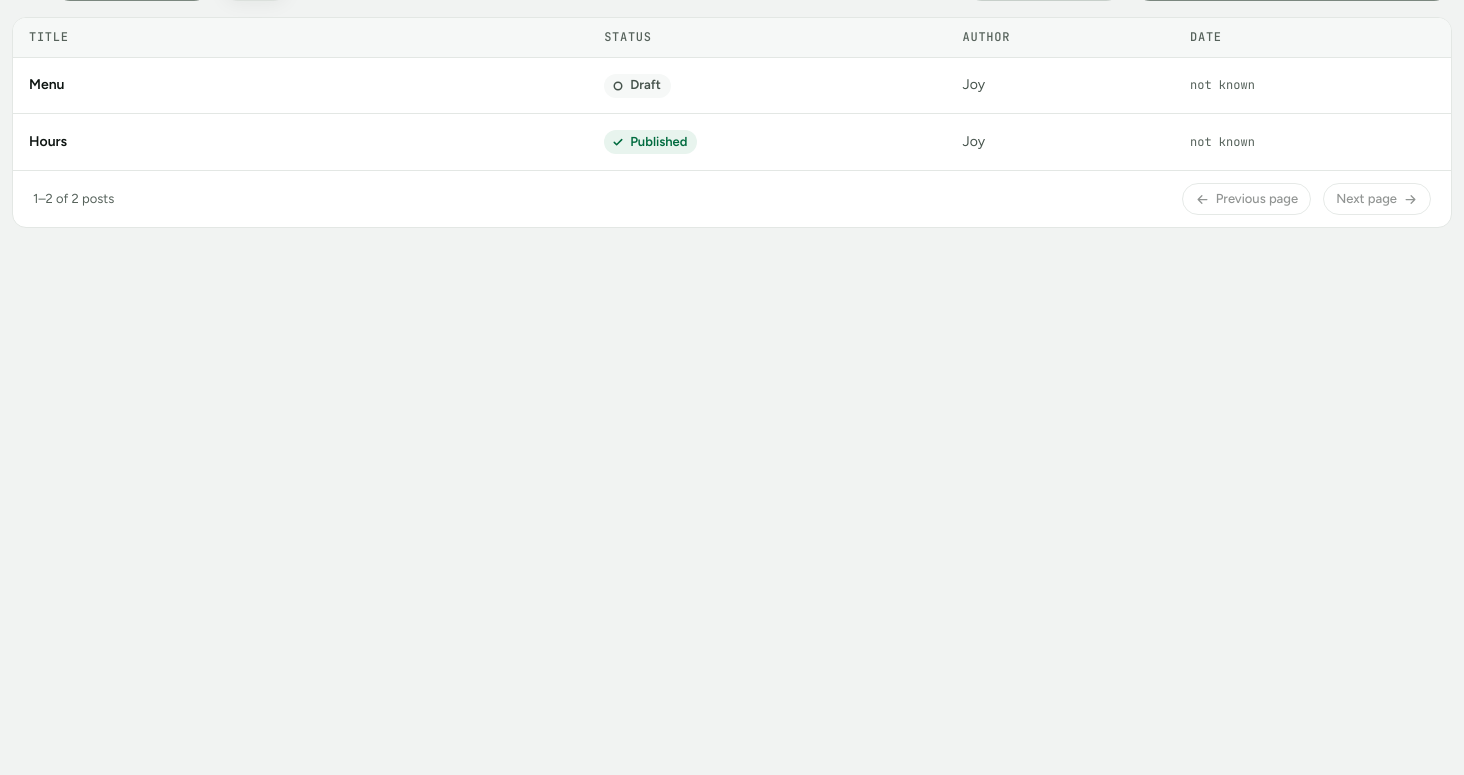
Test: puts an earlier version back after asking, and brings an entry back from the trash
What coordinates should you click on to do the following:
click the button "Menu"
I would click on:
 (47, 85)
Its box is x1=29 y1=75 x2=64 y2=96.
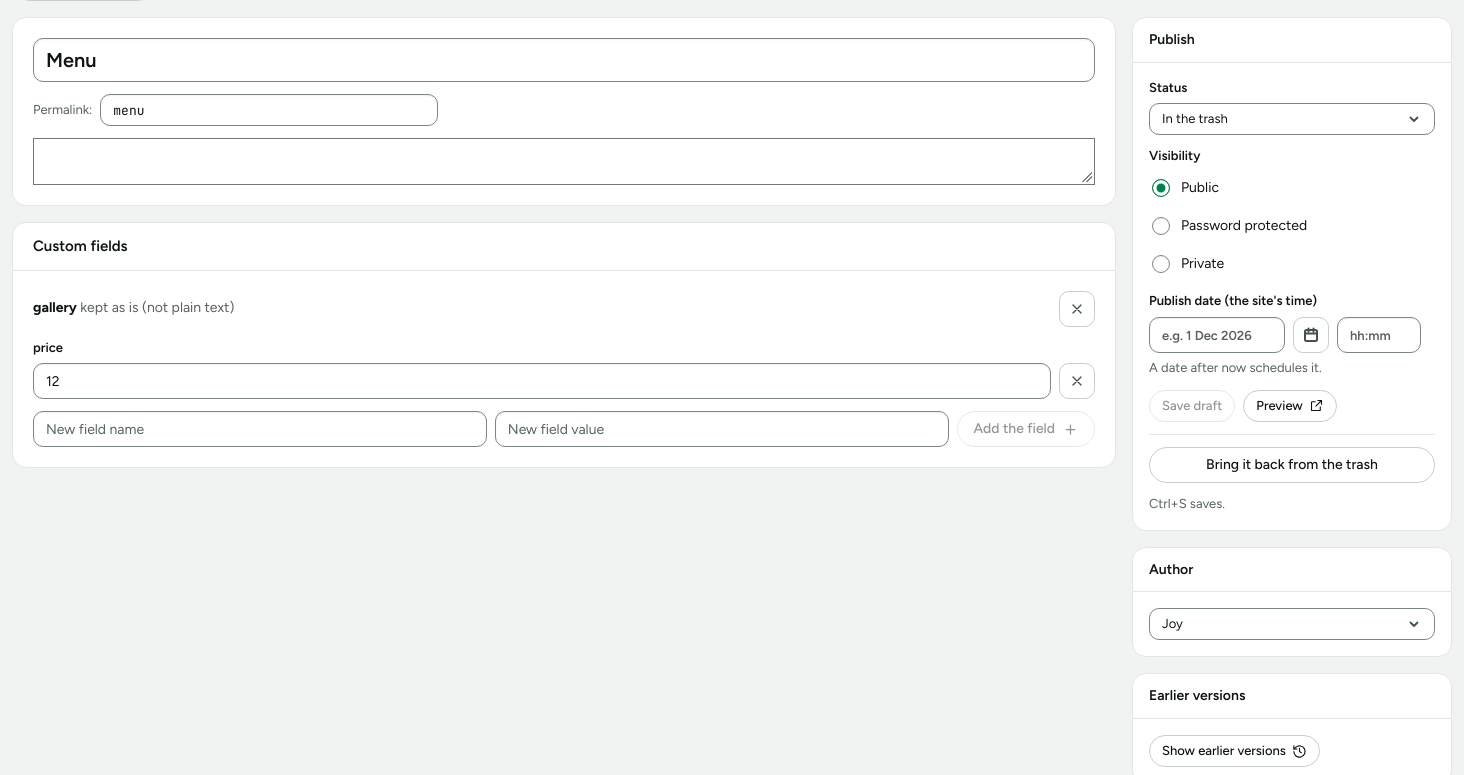
What coordinates should you click on to do the following:
click the button "Show earlier versions"
I would click on:
 (1234, 751)
Its box is x1=1149 y1=735 x2=1320 y2=767.
(page scrolled)
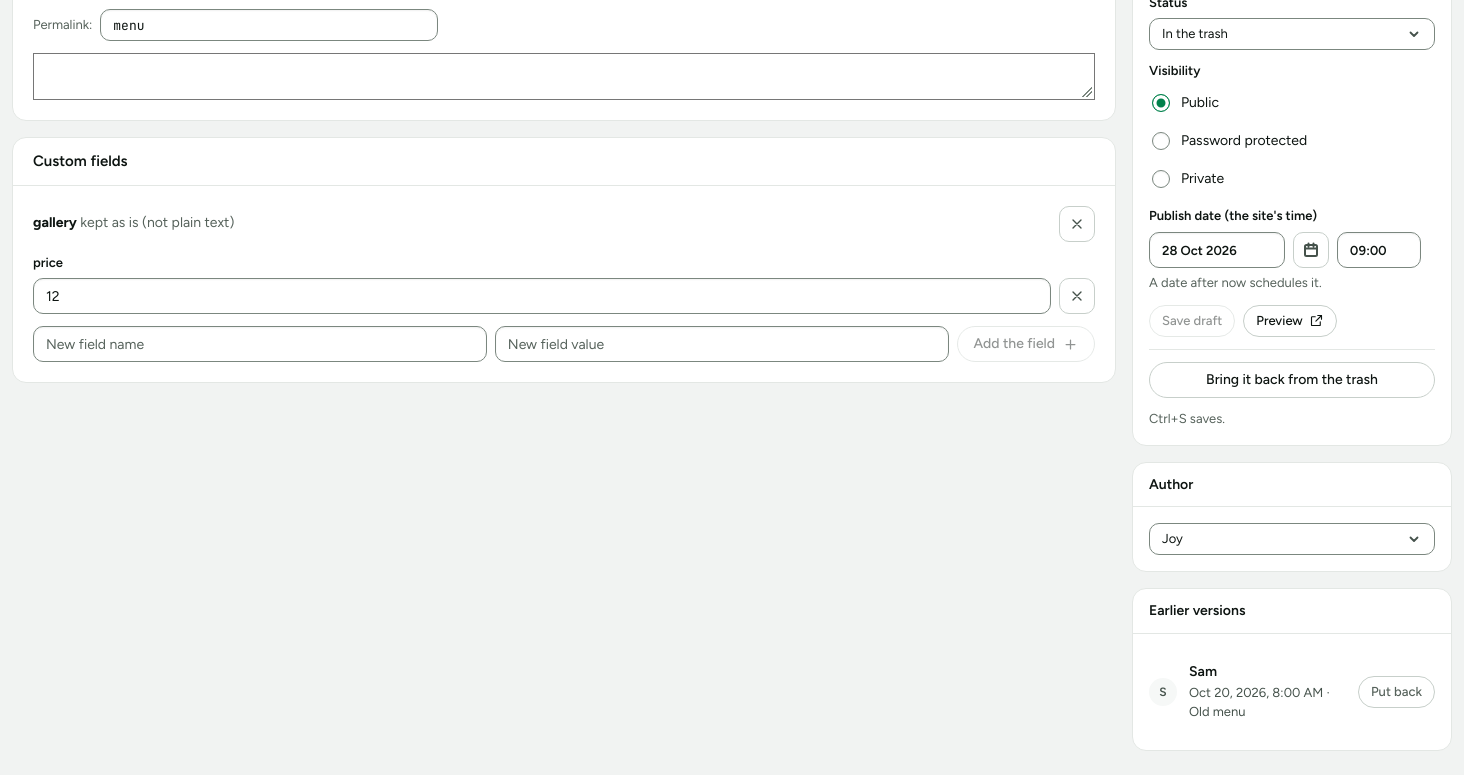
What coordinates should you click on to do the following:
click the button "Put back"
I would click on:
 (1396, 692)
Its box is x1=1358 y1=676 x2=1435 y2=708.
(page scrolled)
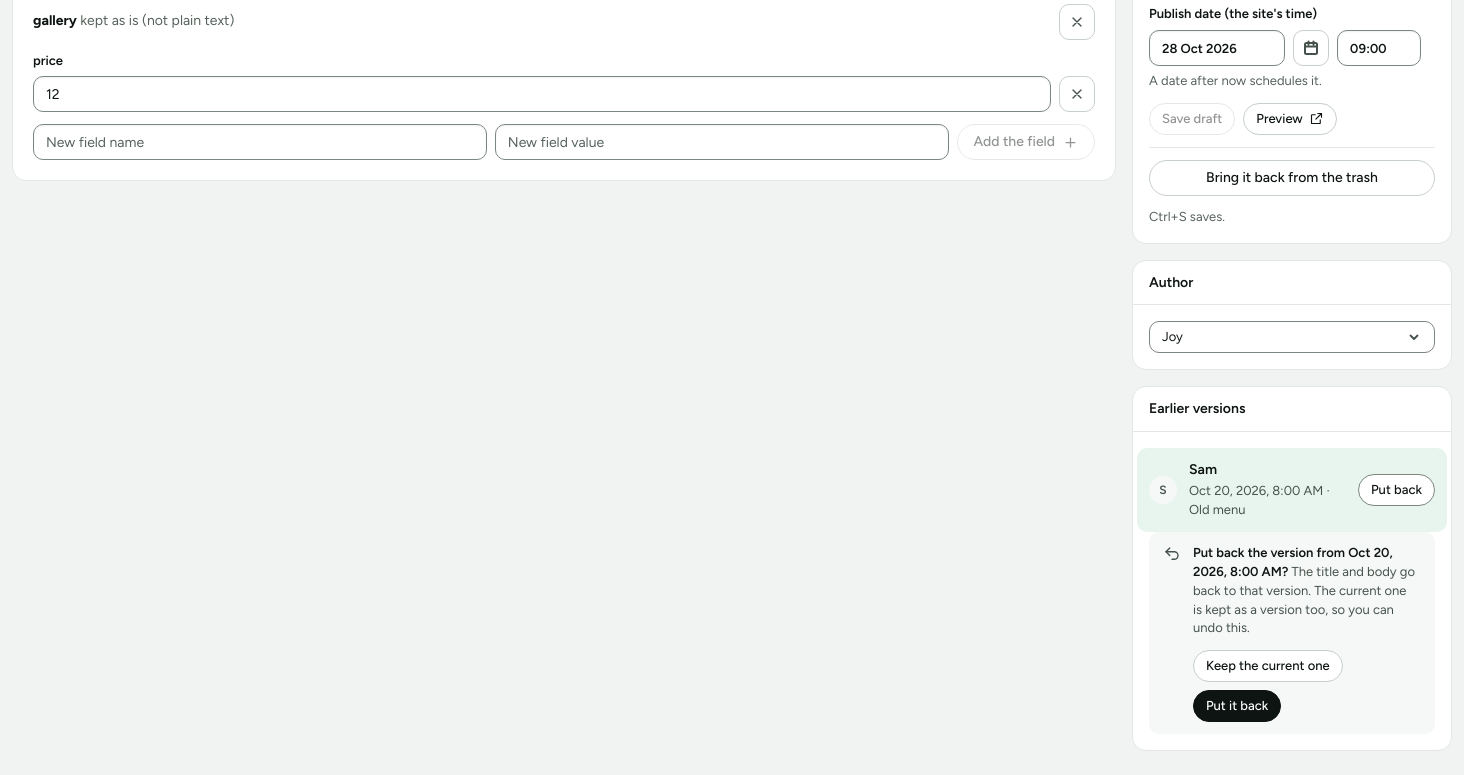
What coordinates should you click on to do the following:
click the button "Put it back"
I would click on:
 (1237, 706)
Its box is x1=1193 y1=690 x2=1281 y2=722.
(page scrolled)
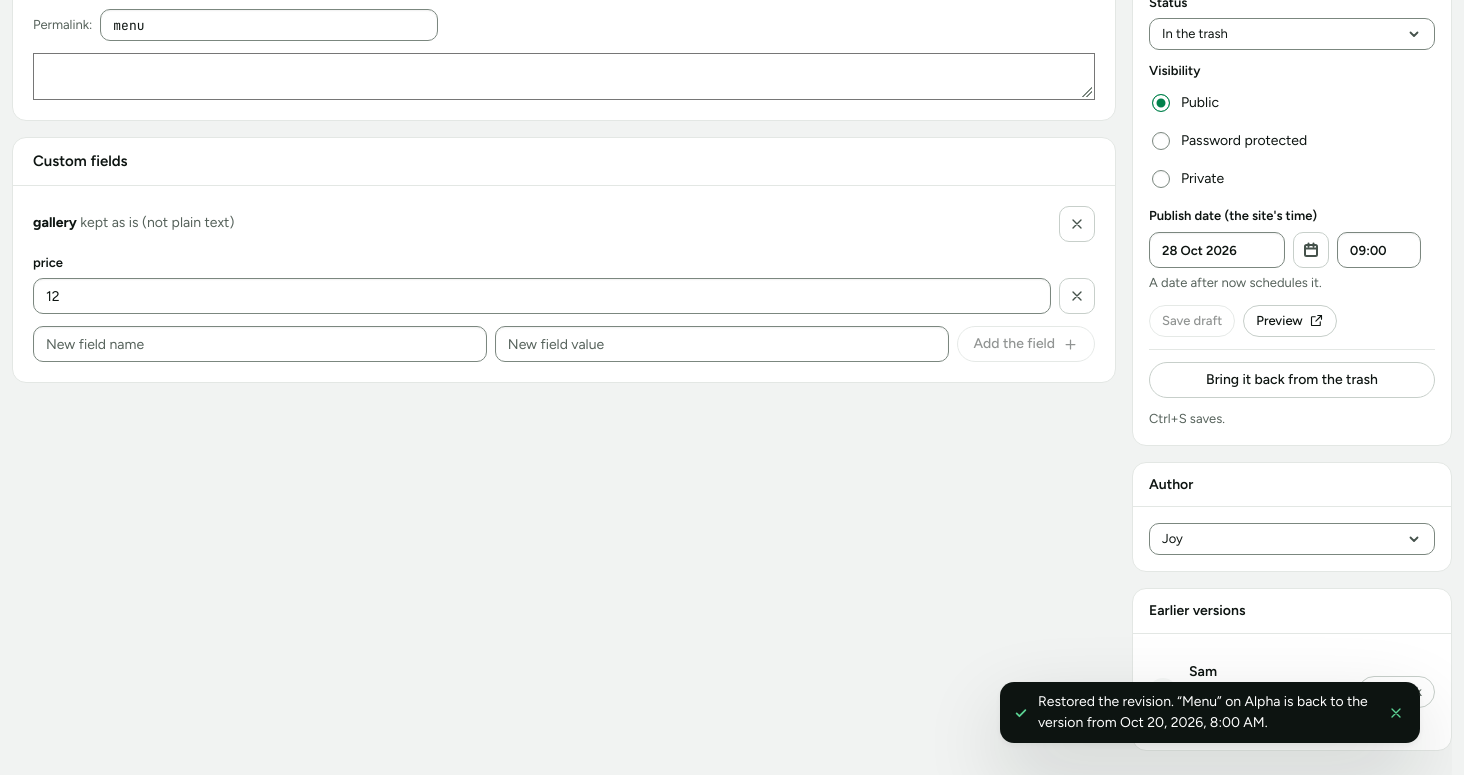
What coordinates should you click on to do the following:
click the button "Bring it back from the trash"
I would click on:
 (1292, 380)
Its box is x1=1149 y1=362 x2=1435 y2=398.
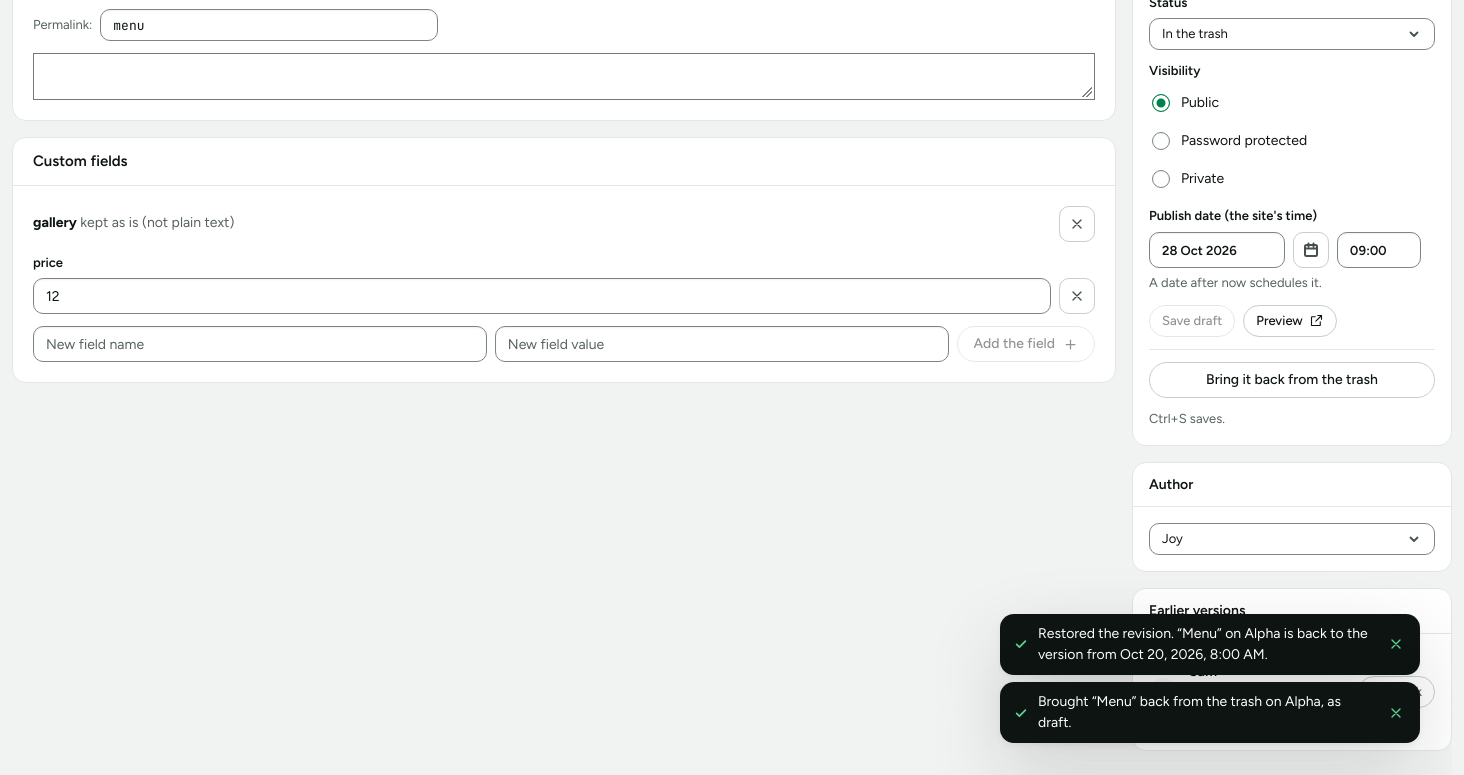
Result: the text "Brought “Menu” back from the trash on Alpha, as draft." is shown at x1=1038 y1=692 x2=1372 y2=733
